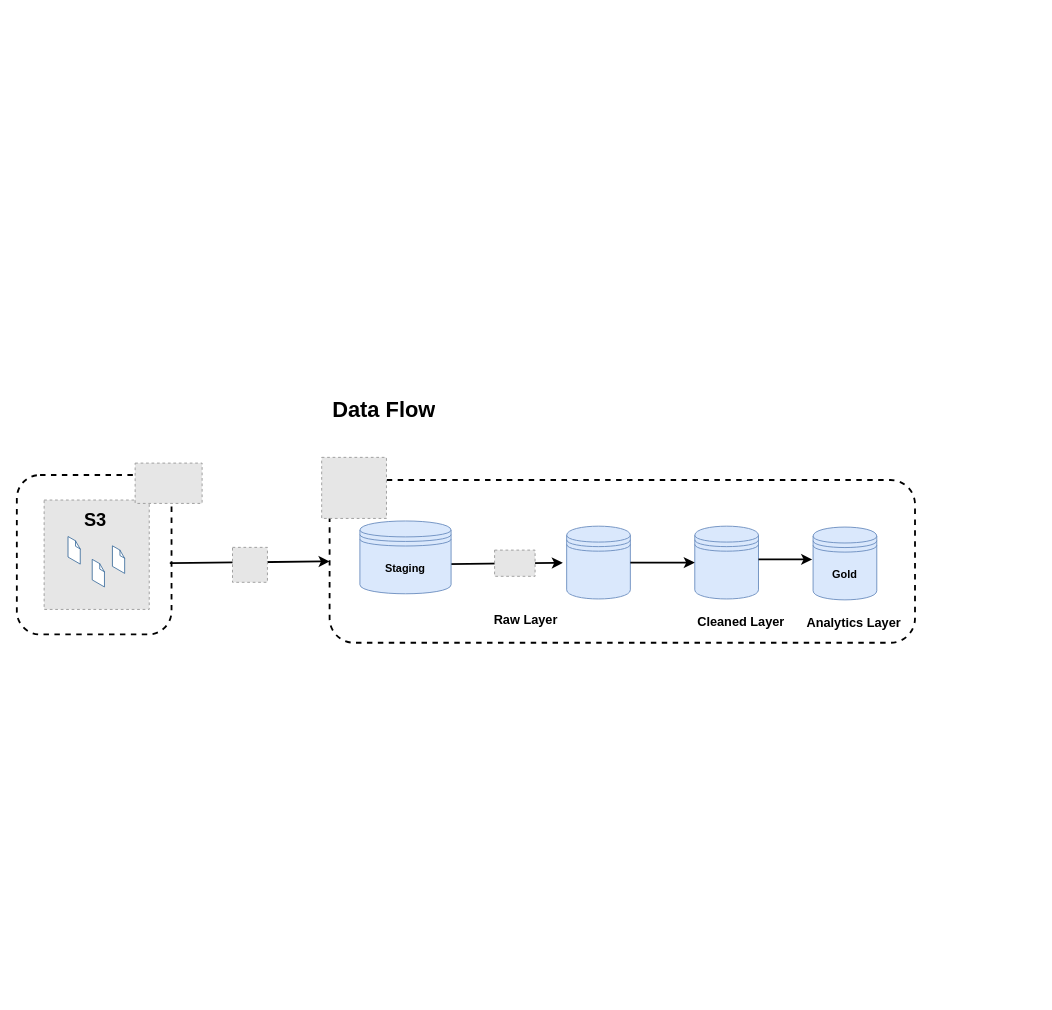
This 1052x1010 diagram has some shape labels left out. Grey dashed boxes stand in for pictures. The centre of each missing label's shape, as x and y in pixels:
Bronze: (598,562)
Silver: (726,562)
